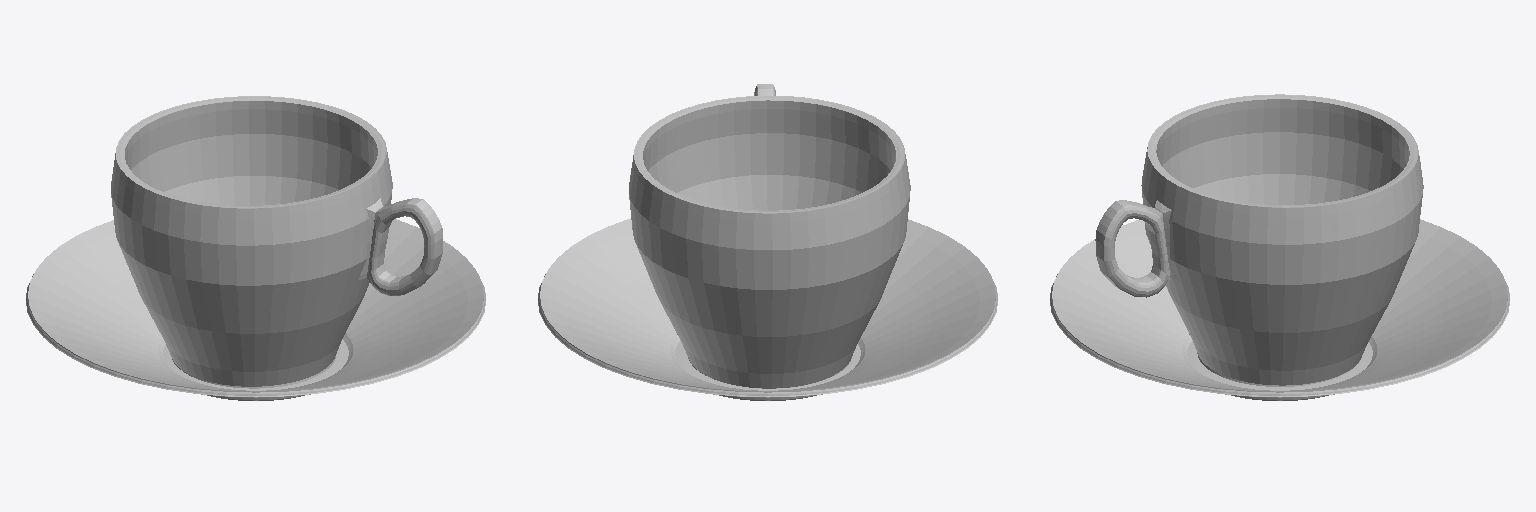
File: tea_cup.obj
The picture shows the model from 3 angles: view 1: azimuth 30°, elevation 25°; view 2: azimuth 150°, elevation 25°; view 3: azimuth 270°, elevation 25°; orthographic projection.
Parts seen in each view (by area): view 1: g_group23_group24_pCylinder23_meshId6_name; view 2: g_group23_group24_pCylinder23_meshId6_name; view 3: g_group23_group24_pCylinder23_meshId6_name.
Part boxes in pixels (x1,y1,x2,y2): g_group23_group24_pCylinder23_meshId6_name: (26,96,485,400); g_group23_group24_pCylinder23_meshId6_name: (538,84,997,400); g_group23_group24_pCylinder23_meshId6_name: (1050,94,1509,400).
Size of the model in its own units: 0.8721 by 0.4385 by 0.8721.